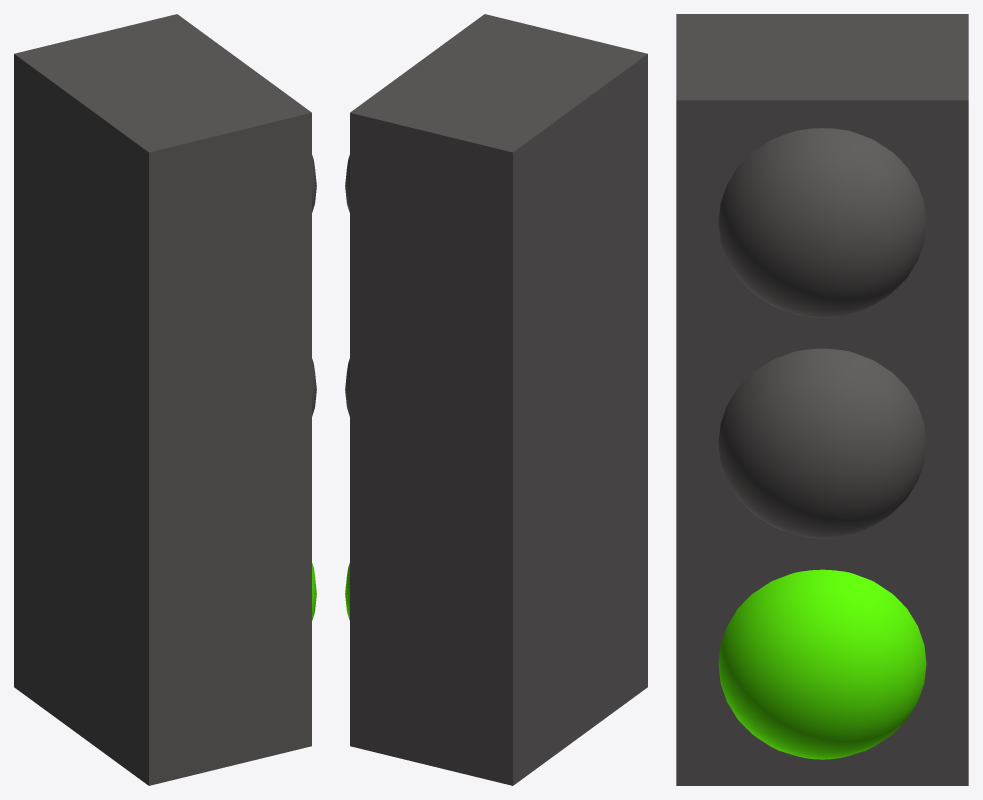
Rendered from yesil.dae.
The picture shows the model from 3 angles, left to right: view 1: azimuth 30°, elevation 25°; view 2: azimuth 150°, elevation 25°; view 3: azimuth 270°, elevation 25°; orthographic projection. The views are drawn at different scales.
Parts seen in each view (by area): view 1: Cube; view 2: Cube; view 3: Cube, Sphere.001, Sphere, Sphere.002.
Part boxes in pixels (box(x1,y1,x2,y2)): Cube: box(14, 14, 311, 785); Cube: box(350, 14, 647, 785); Cube: box(676, 14, 968, 785); Sphere.001: box(718, 348, 926, 538); Sphere: box(718, 569, 926, 759); Sphere.002: box(718, 128, 926, 317).
Size of the model in its own units: 2.71 by 2.86 by 7.42.
